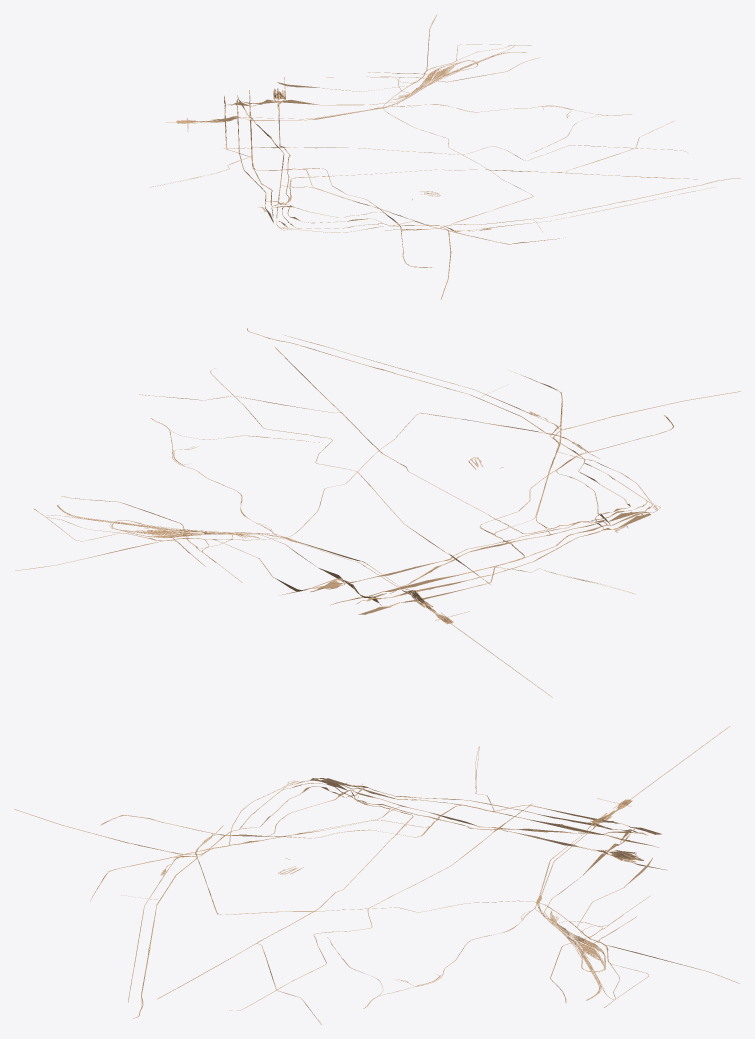
Rendered from rail.glb.
The picture shows the model from 3 angles, top to bottom: view 1: azimuth 30°, elevation 25°; view 2: azimuth 150°, elevation 25°; view 3: azimuth 270°, elevation 25°; orthographic projection. The views are drawn at different scales.
Parts seen in each view (by area): view 1: rail; view 2: rail; view 3: rail.
Boxes of the visible parts, x1,y1,x2,y2 form: rail: [150, 14, 740, 299]; rail: [15, 328, 740, 697]; rail: [14, 726, 739, 1024].
Bounding box in the file's own units: 12506 × 167 × 12794.
